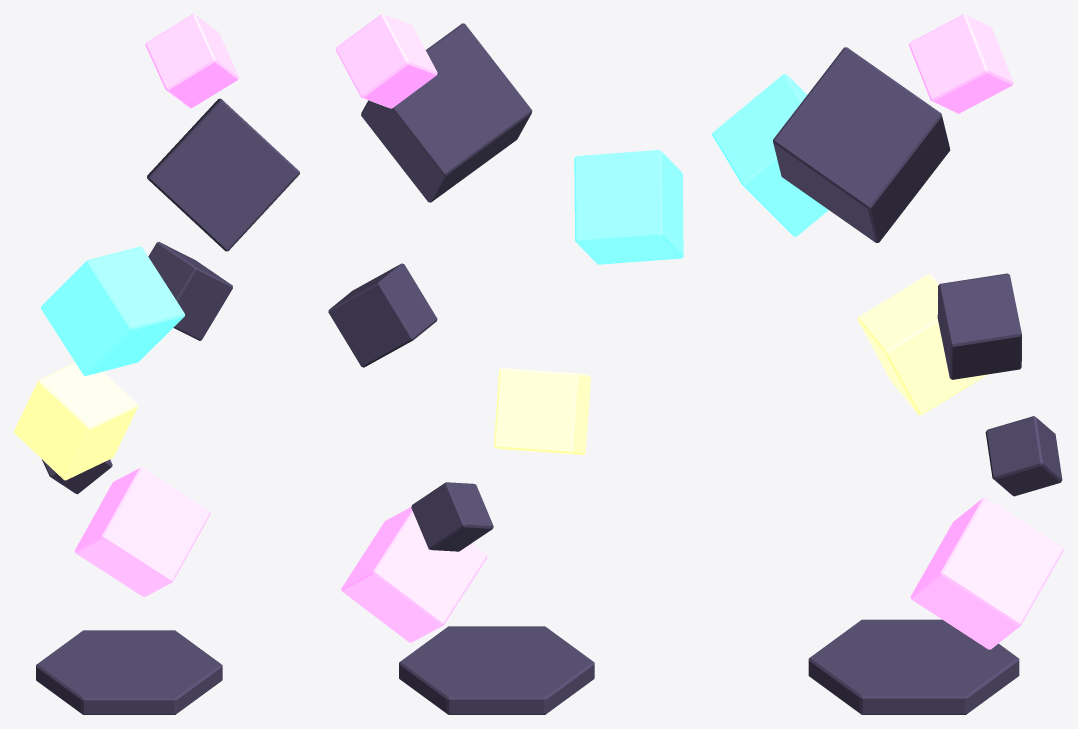
3 renders of one model, left to right at view 1: azimuth 30°, elevation 25°; view 2: azimuth 150°, elevation 25°; view 3: azimuth 270°, elevation 25°, orthographic. The views are drawn at different scales.
Visible parts, largest first — view 1: FloatingCubes; view 2: FloatingCubes; view 3: FloatingCubes.
Boxes of the visible parts, box(x1,y1,x2,y2) form: FloatingCubes: box(14, 14, 299, 714); FloatingCubes: box(328, 14, 683, 714); FloatingCubes: box(712, 14, 1063, 714).
Size of the model in its own units: 2 by 4.42 by 1.98.
